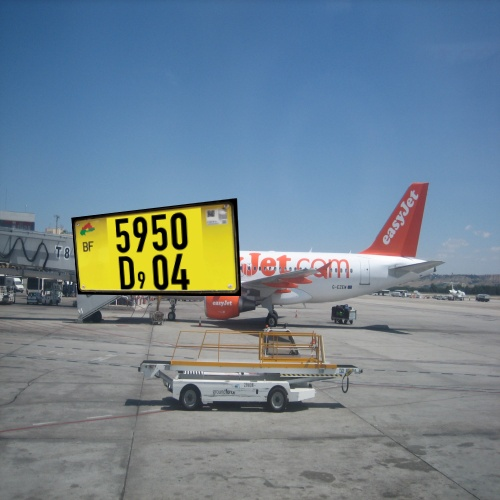plate: (52, 185, 264, 324)
